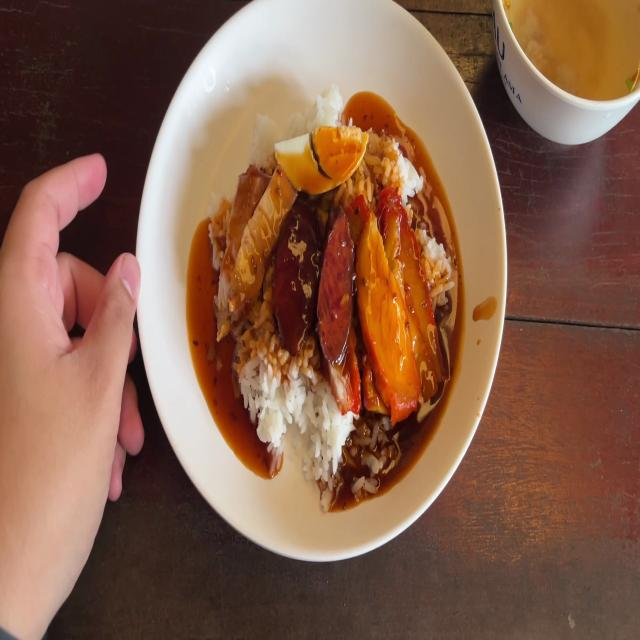01boiled_egg: (273, 126, 368, 186)
01chainese_sausage: (269, 200, 352, 359), (273, 212, 321, 340), (319, 218, 353, 353)
01crispy_pork: (220, 159, 282, 334), (226, 178, 286, 322)
01red_pork: (358, 185, 438, 408), (359, 204, 405, 410), (391, 190, 436, 374)
01red_pork_and_crispy_pork: (211, 79, 453, 508)
01rice: (245, 345, 302, 456), (300, 386, 340, 494), (368, 123, 423, 197), (304, 86, 354, 132), (251, 113, 282, 160)
